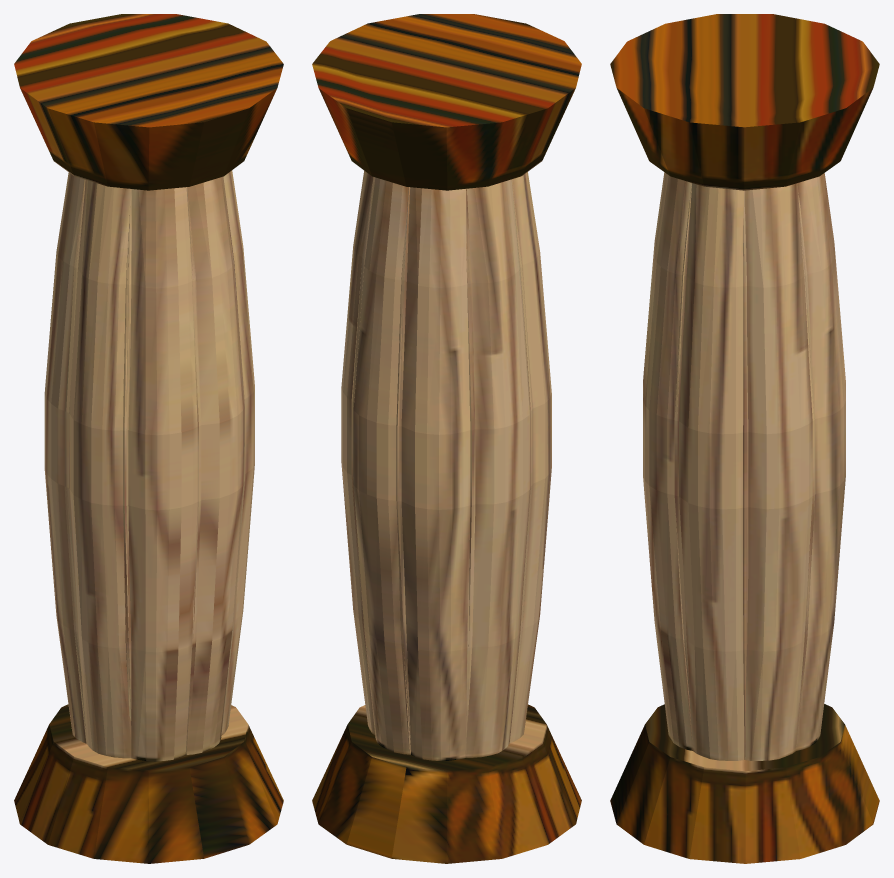
The model's file is Columb1.glb.
The picture shows the model from 3 angles, left to right: view 1: azimuth 30°, elevation 25°; view 2: azimuth 150°, elevation 25°; view 3: azimuth 270°, elevation 25°; orthographic projection.
Visible parts, largest first — view 1: Columb1; view 2: Columb1; view 3: Columb1.
Boxes of the visible parts, x1,y1,x2,y2 form: Columb1: (14,14,283,863); Columb1: (312,14,581,863); Columb1: (610,14,879,863).
Size of the model in its own units: 123 by 373 by 124.
Materials: 1 (1 with a texture image).
